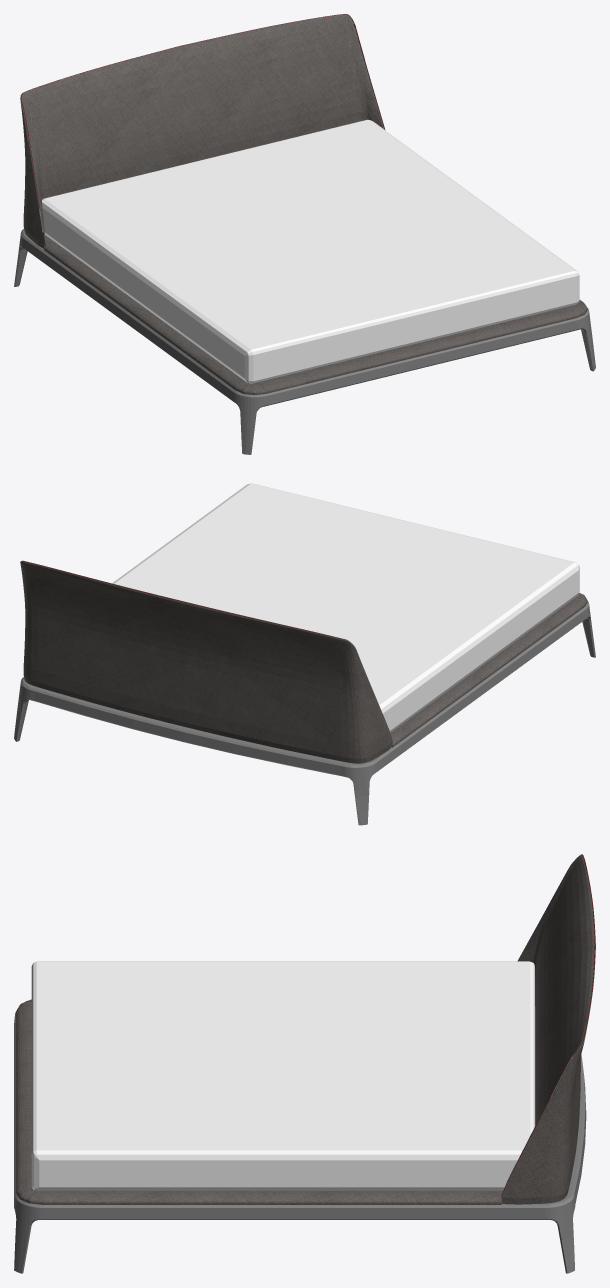
File: letto.glb
The picture shows the model from 3 angles, top to bottom: view 1: azimuth 30°, elevation 25°; view 2: azimuth 150°, elevation 25°; view 3: azimuth 270°, elevation 25°; orthographic projection. The views are drawn at different scales.
Parts seen in each view (by area): view 1: Kelly.dwg#1; view 2: Kelly.dwg#1; view 3: Kelly.dwg#1.
Boxes of the visible parts, x1=… form: Kelly.dwg#1: x1=14, y1=14, x2=595, y2=454; Kelly.dwg#1: x1=14, y1=483, x2=595, y2=825; Kelly.dwg#1: x1=14, y1=854, x2=595, y2=1273.
Bounding box in the file's own units: 1.97 × 1.01 × 2.35.
Materials: 4 (1 with a texture image).
